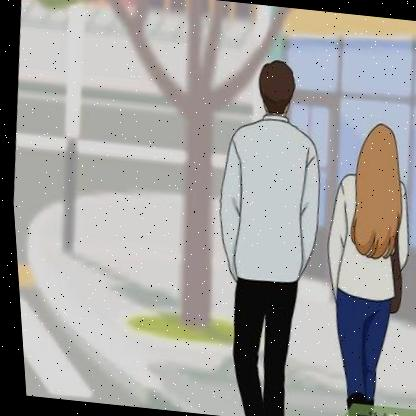person: (179, 46, 354, 416), (300, 114, 416, 414)
